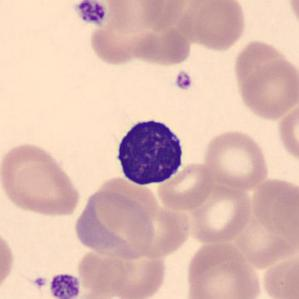Lymphocyte: (109, 111, 190, 190)
Platelets: (47, 271, 82, 299), (73, 0, 108, 27), (174, 69, 194, 93), (32, 275, 48, 289)
RBC: (87, 1, 192, 68), (0, 139, 83, 219), (71, 186, 158, 261), (183, 238, 263, 299), (185, 181, 254, 246), (201, 128, 271, 191), (235, 39, 296, 106), (235, 57, 298, 121), (104, 239, 168, 299), (231, 212, 296, 270), (248, 174, 297, 248), (185, 0, 248, 53), (155, 160, 216, 211), (100, 0, 171, 35), (259, 252, 299, 299), (136, 0, 189, 33), (276, 100, 298, 166), (0, 225, 17, 296), (63, 289, 138, 299), (284, 0, 299, 33)
